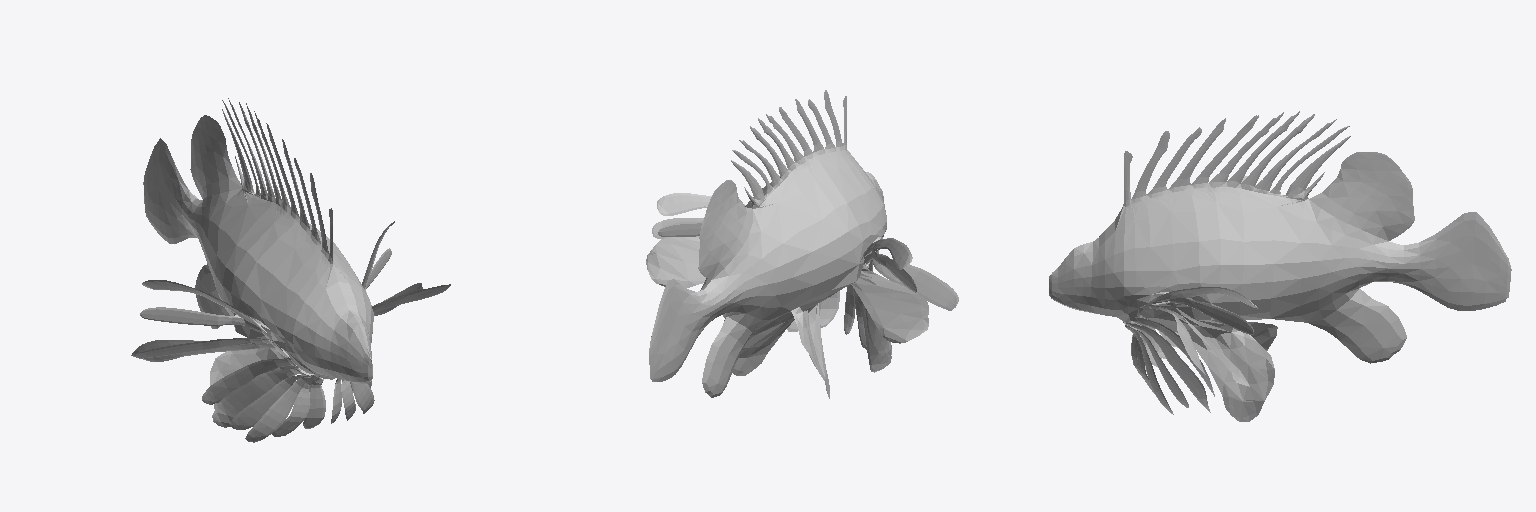
File: LionFish.obj
3 views of the same model, side by side, from view 1: azimuth 30°, elevation 25°; view 2: azimuth 150°, elevation 25°; view 3: azimuth 270°, elevation 25° (orthographic).
Parts seen in each view (by area): view 1: Plane; view 2: Plane; view 3: Plane.
Part boxes in pixels (x1,y1,x2,y2): Plane: (131,98,450,442); Plane: (646,90,958,398); Plane: (1049,111,1511,421).
Bounding box in the file's own units: 6.97 × 6.23 × 9.